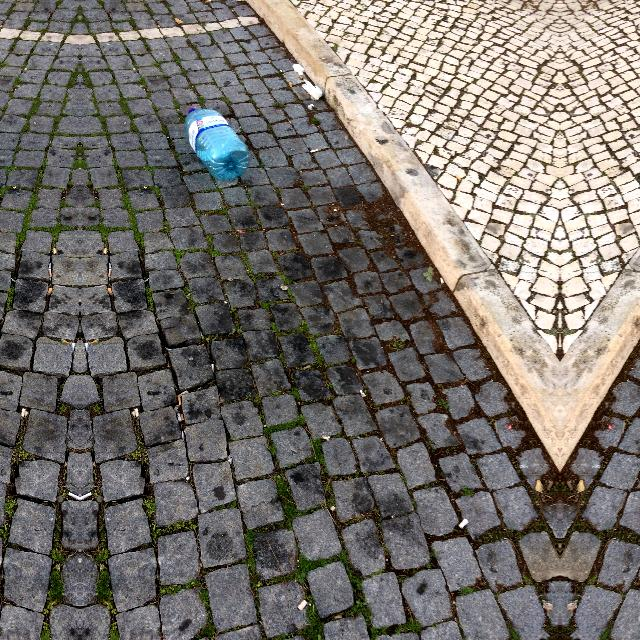Plastic: (175, 98, 258, 186)
